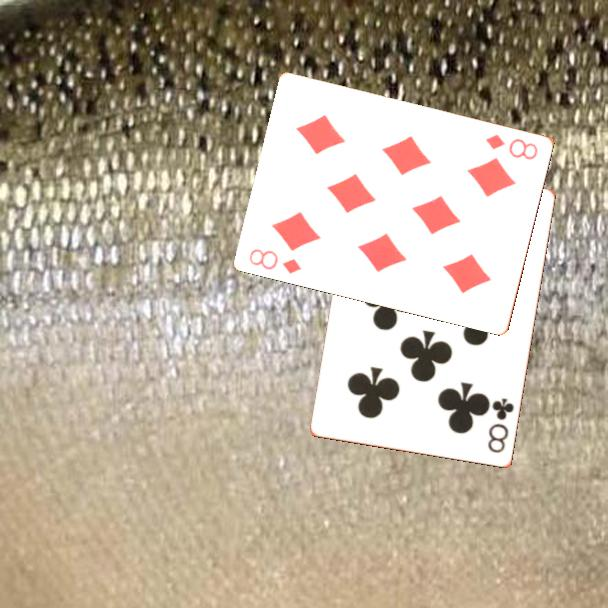c08: (484, 395, 517, 456)
d08: (482, 130, 541, 162), (246, 245, 304, 277)
